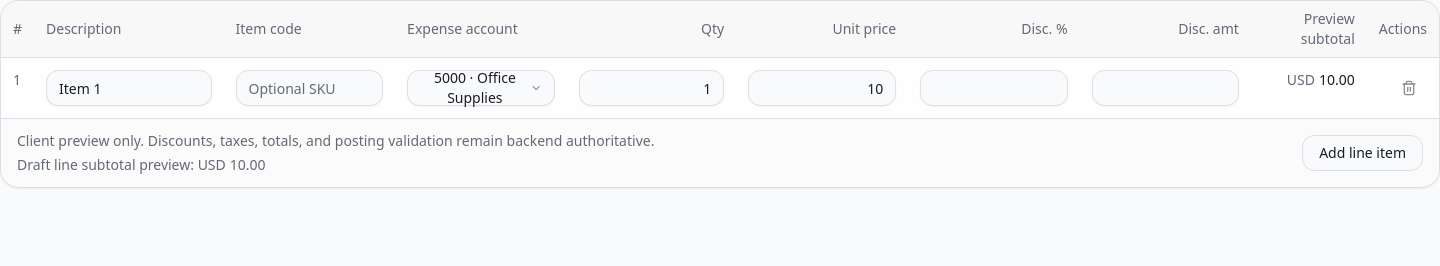
bill line items editor › adds and removes bill lines
expect the number of buttons named "remove line" is 1: met, box [1391,70,1427,106]
Click the button "Add line item".
click(1363, 153)  # box [1302,135,1423,171]
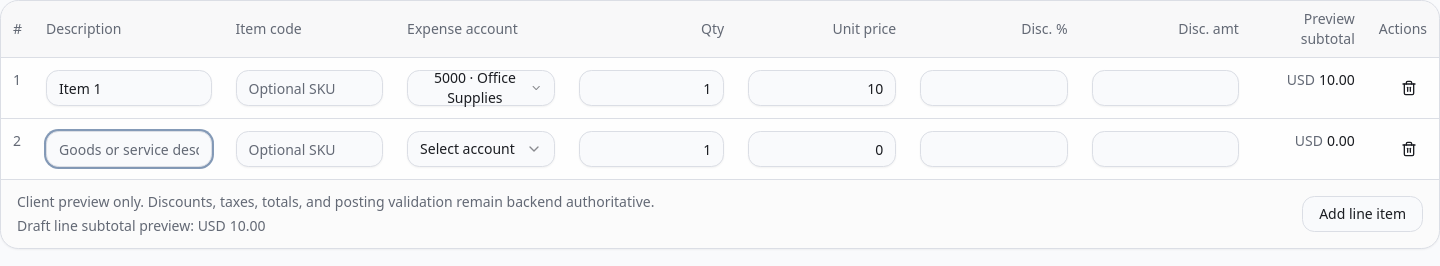
expect the number of buttons named "remove line" is 2: met
Click the button named "remove line 2".
click(1409, 149)  # box [1391,131,1427,167]
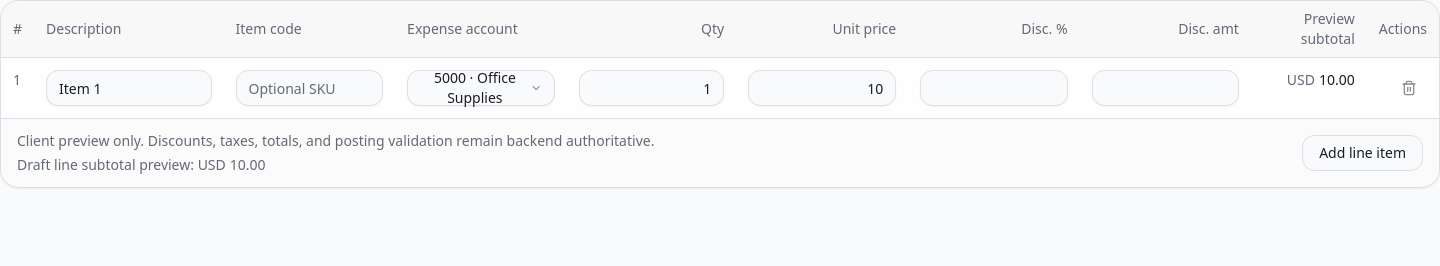
expect the number of buttons named "remove line" is 1: met, box [1391,70,1427,106]
